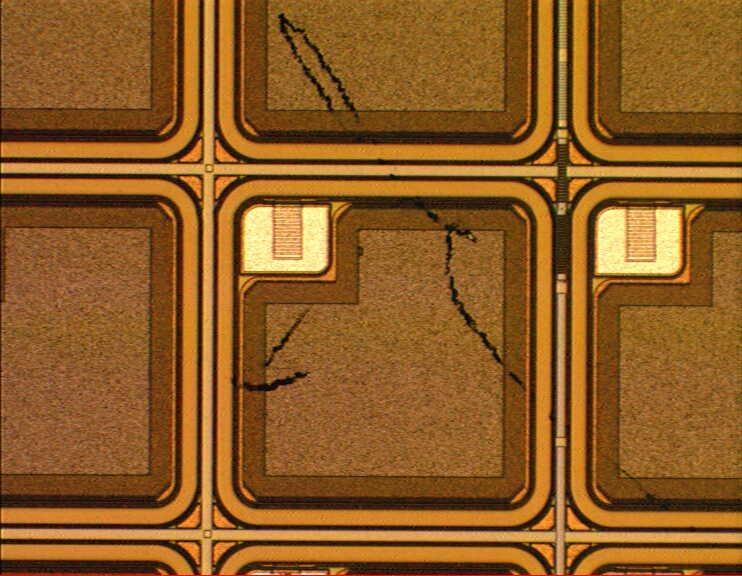SCRATCH: (220, 3, 675, 513)
